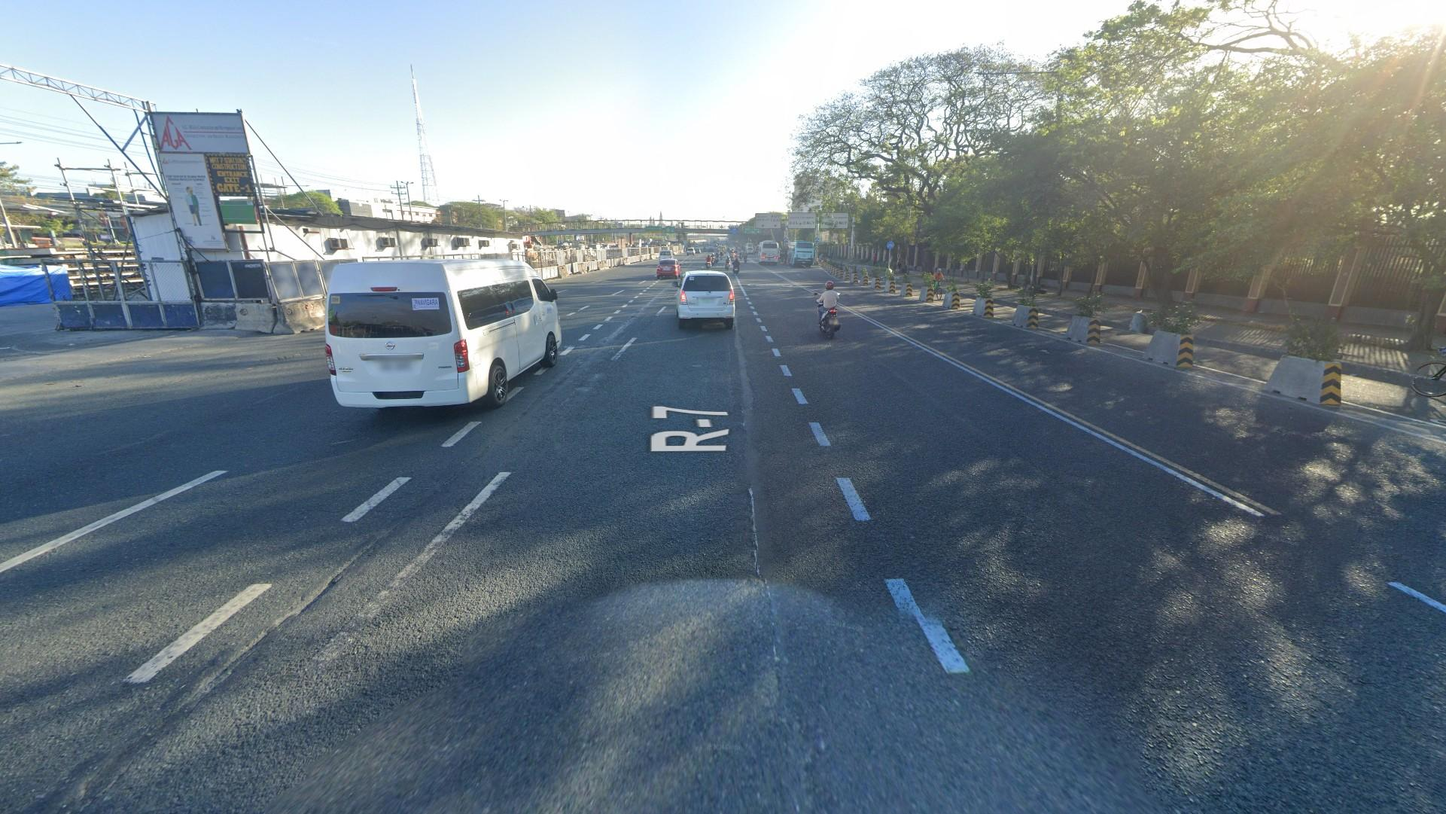cyclist: (926, 267, 947, 300)
pedestrian: (871, 253, 877, 268)
